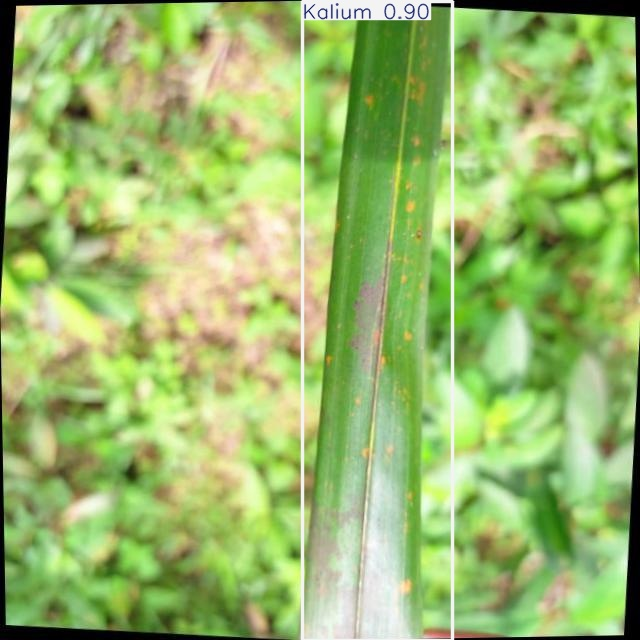Kalium: (303, 2, 452, 640)
